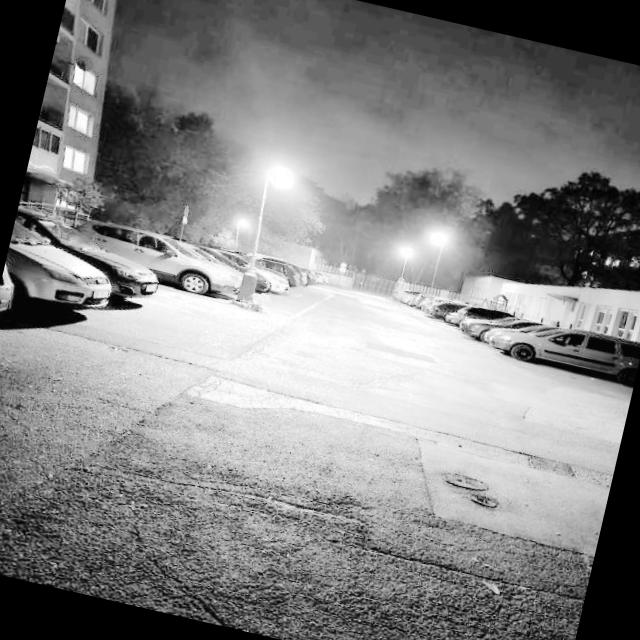Light: (228, 160, 296, 314), (412, 220, 455, 300), (220, 210, 252, 258), (391, 234, 420, 284)
